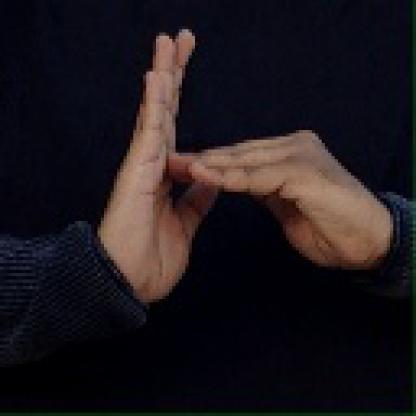Z: (103, 21, 380, 302)
